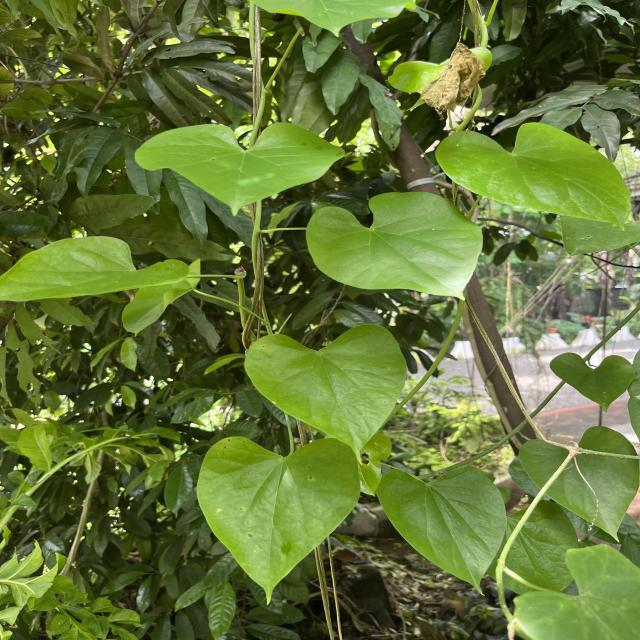Tinospora cordifolia: (193, 431, 364, 610), (238, 319, 411, 466), (433, 120, 635, 234), (302, 188, 486, 306), (132, 121, 348, 218), (374, 462, 511, 599)
